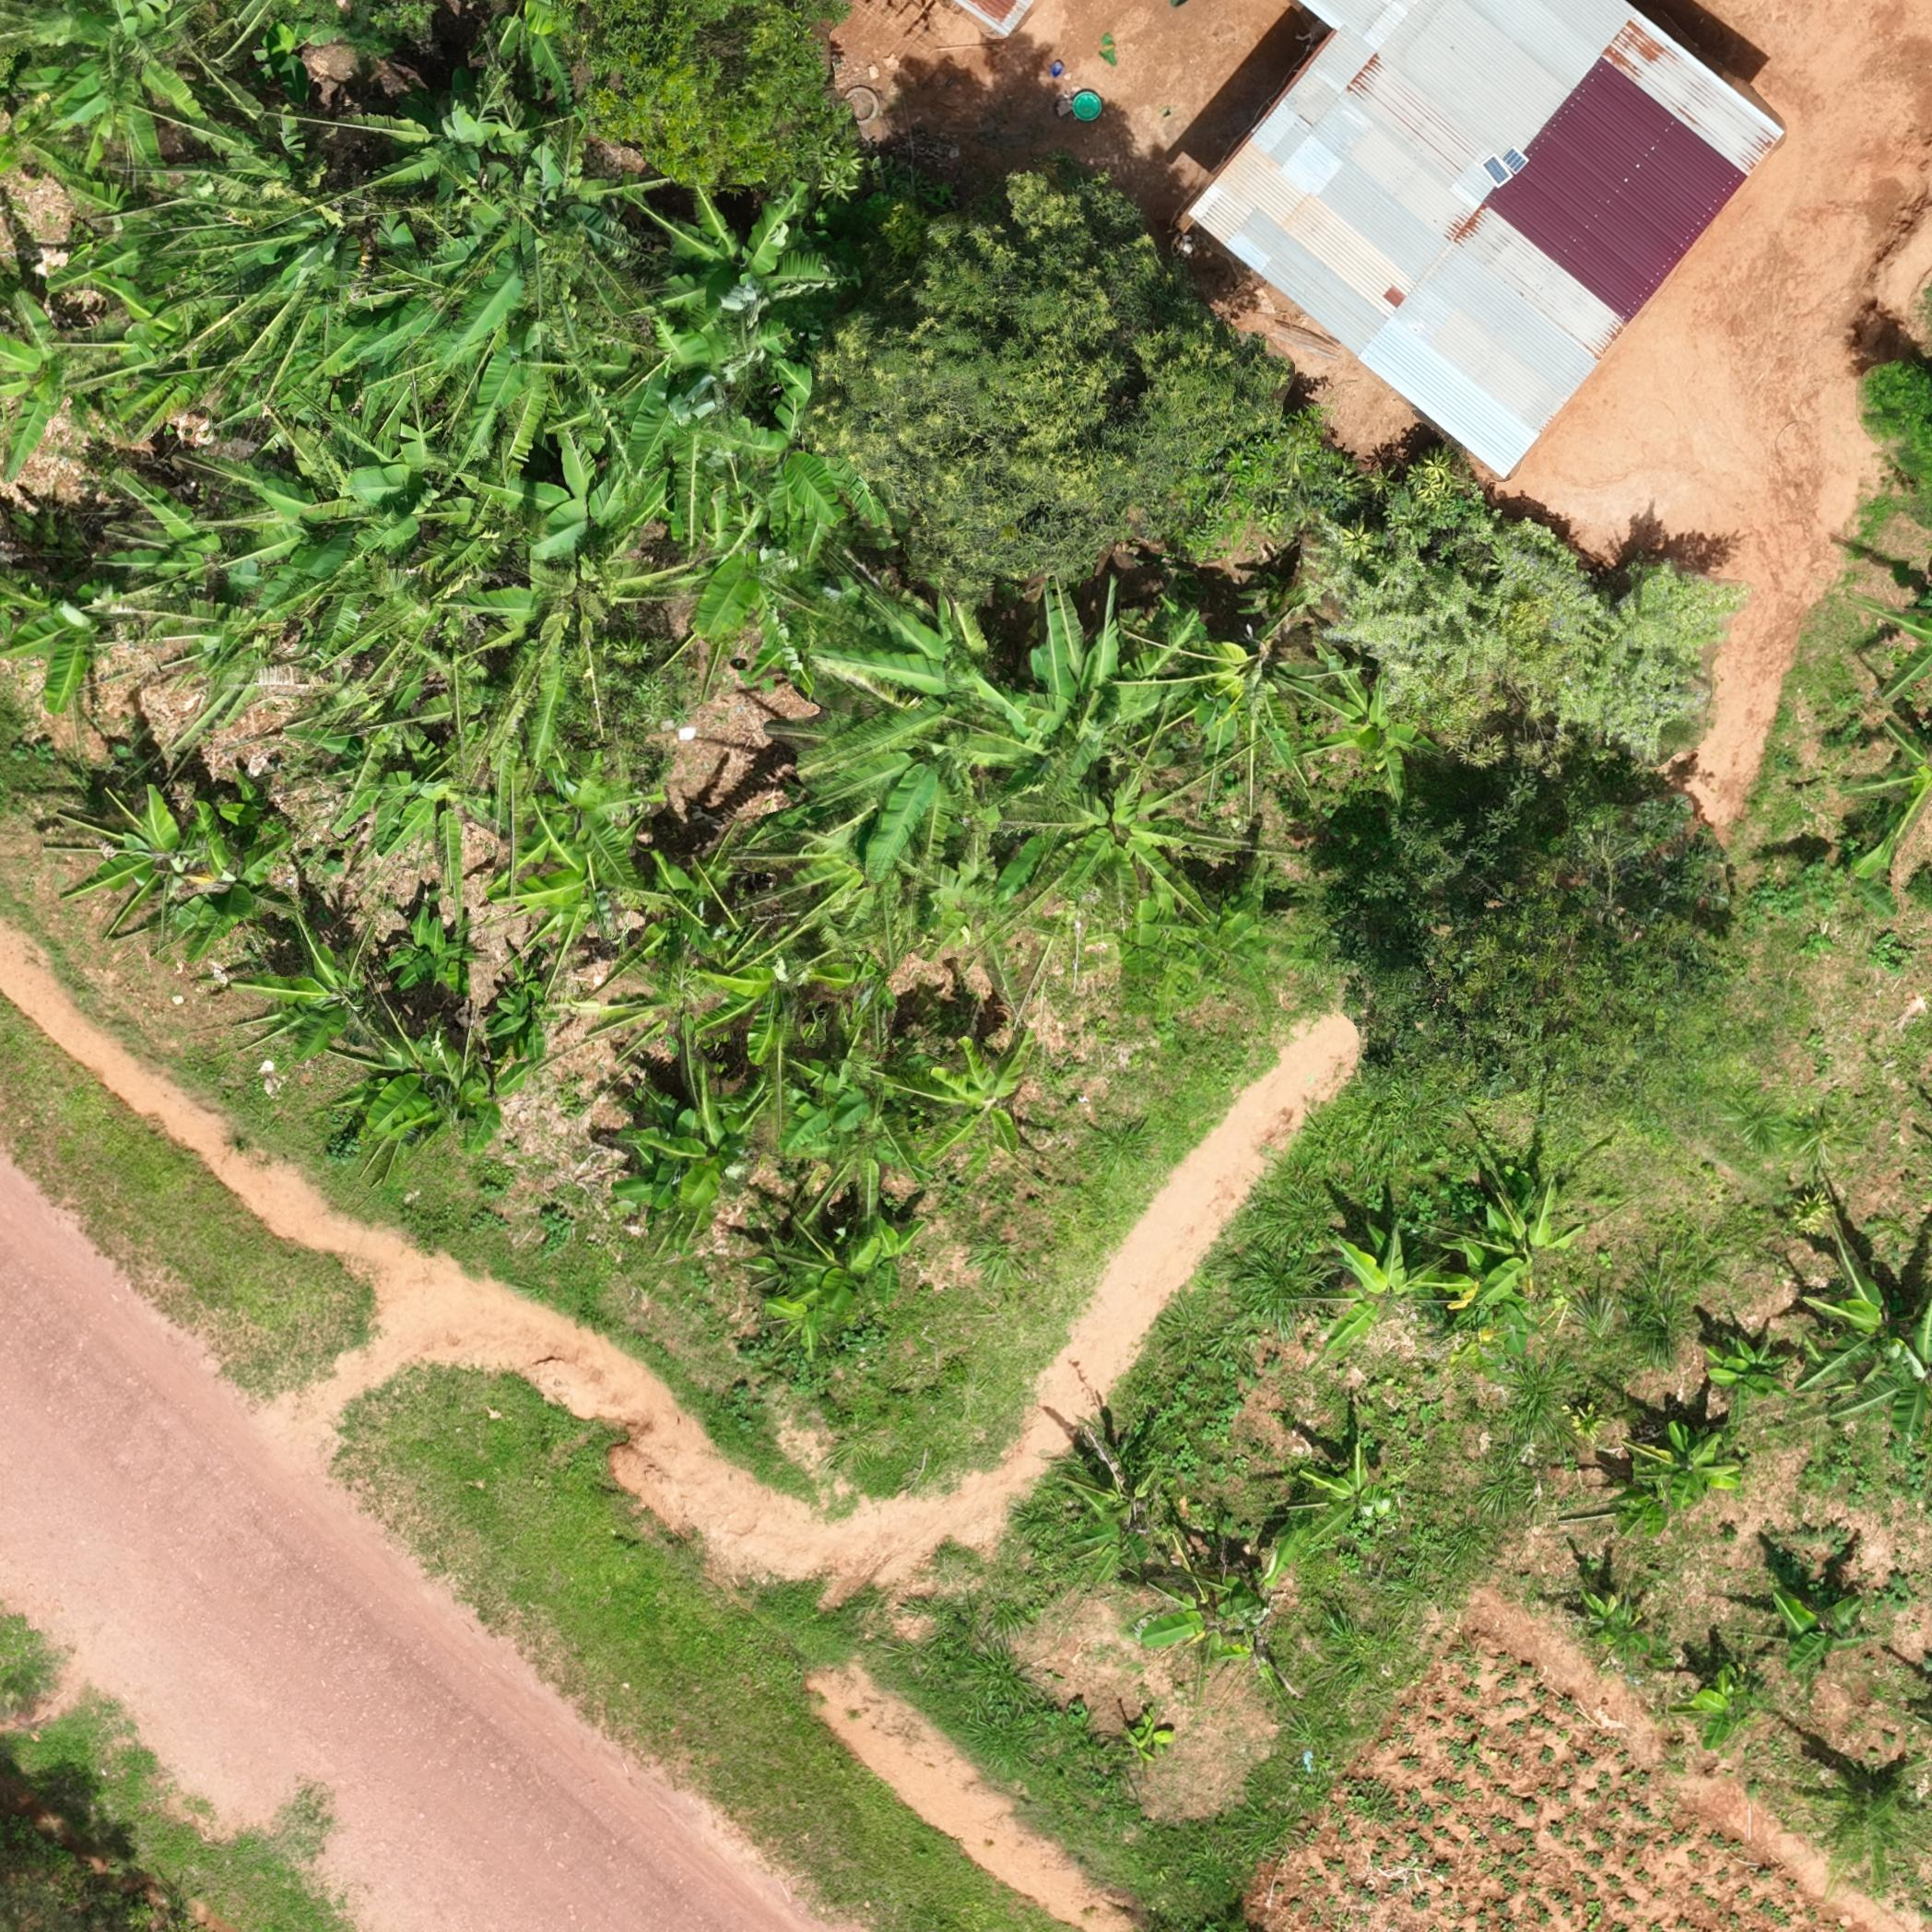Banana: (119, 180, 327, 382), (520, 368, 697, 580), (320, 384, 502, 579), (329, 177, 513, 363), (1141, 587, 1306, 787), (428, 92, 536, 375), (702, 384, 842, 596), (73, 814, 274, 957), (828, 805, 998, 971), (982, 587, 1136, 766), (833, 605, 980, 789), (754, 1221, 931, 1362), (356, 1012, 524, 1161), (685, 180, 819, 366), (1035, 778, 1205, 925), (18, 4, 179, 156), (129, 485, 308, 610), (317, 598, 471, 738), (1470, 1192, 1592, 1362), (563, 168, 667, 361), (646, 925, 793, 1058), (517, 771, 658, 908), (191, 9, 306, 173), (635, 1088, 750, 1244), (786, 1042, 911, 1182), (1323, 1235, 1460, 1362), (1826, 1265, 1930, 1430), (9, 301, 101, 483), (1065, 1428, 1155, 1583), (241, 948, 352, 1074), (932, 1054, 1051, 1168), (14, 547, 103, 695), (1318, 648, 1417, 778), (1302, 1445, 1384, 1601), (341, 748, 455, 858), (517, 598, 589, 761), (1622, 1419, 1744, 1513), (1175, 1582, 1269, 1686), (182, 621, 264, 718), (1854, 745, 1920, 863), (1767, 1582, 1858, 1660), (1875, 603, 1930, 715), (511, 9, 586, 83), (400, 911, 472, 987), (1108, 1702, 1182, 1771), (1721, 1327, 1789, 1387), (690, 853, 720, 918), (690, 605, 775, 628)
